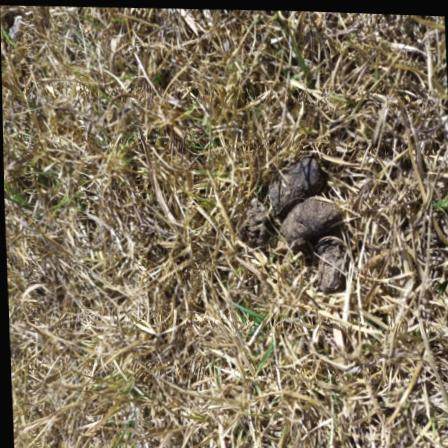dog-poop: (228, 146, 347, 289)
